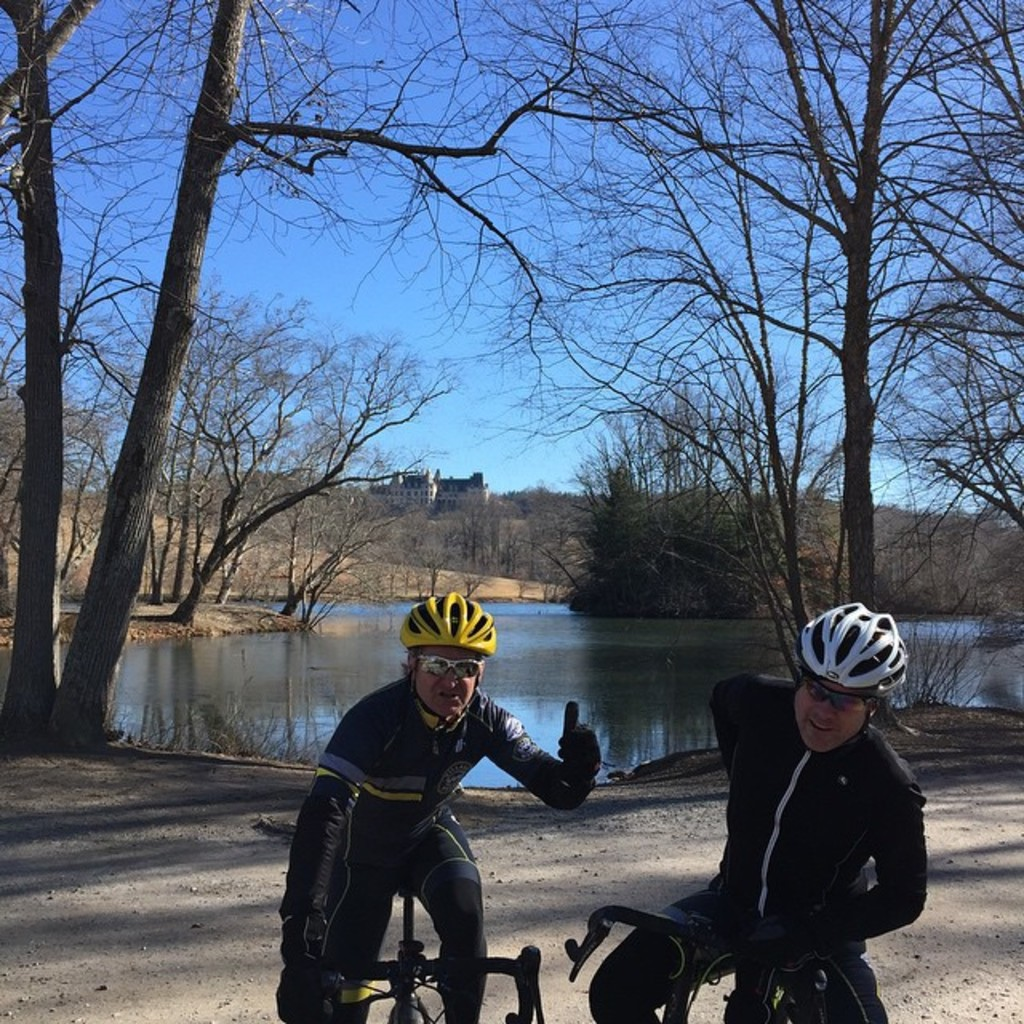Human_hand: (555, 701, 603, 773), (275, 970, 333, 1022), (742, 922, 800, 950)
